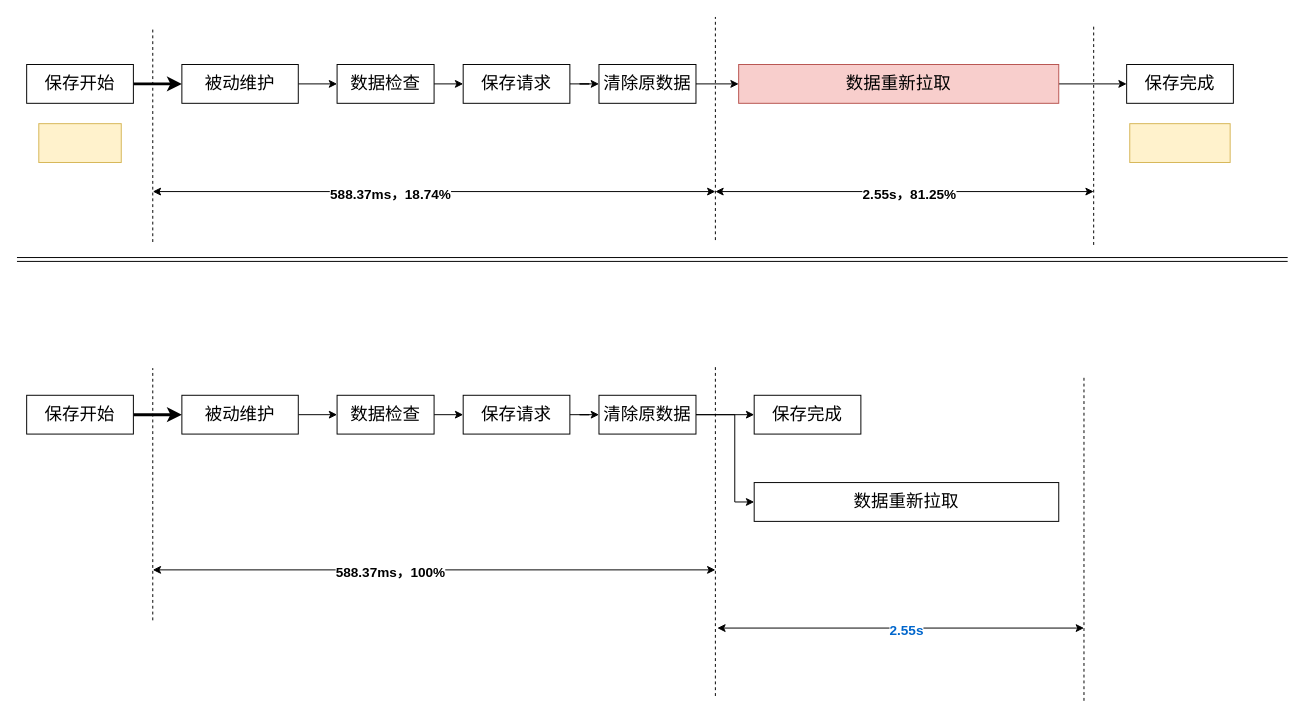
Some shapes in this 1305 by 719 pixel diagram are drawn without their labels. The shapes that lost their labels are listed below. From the top down, each one's centre as x and y in pixels, then its label:
At point 79,142: "人工点击确认保存".
At point 1179,142: "保存loading结束 人工可操作".
